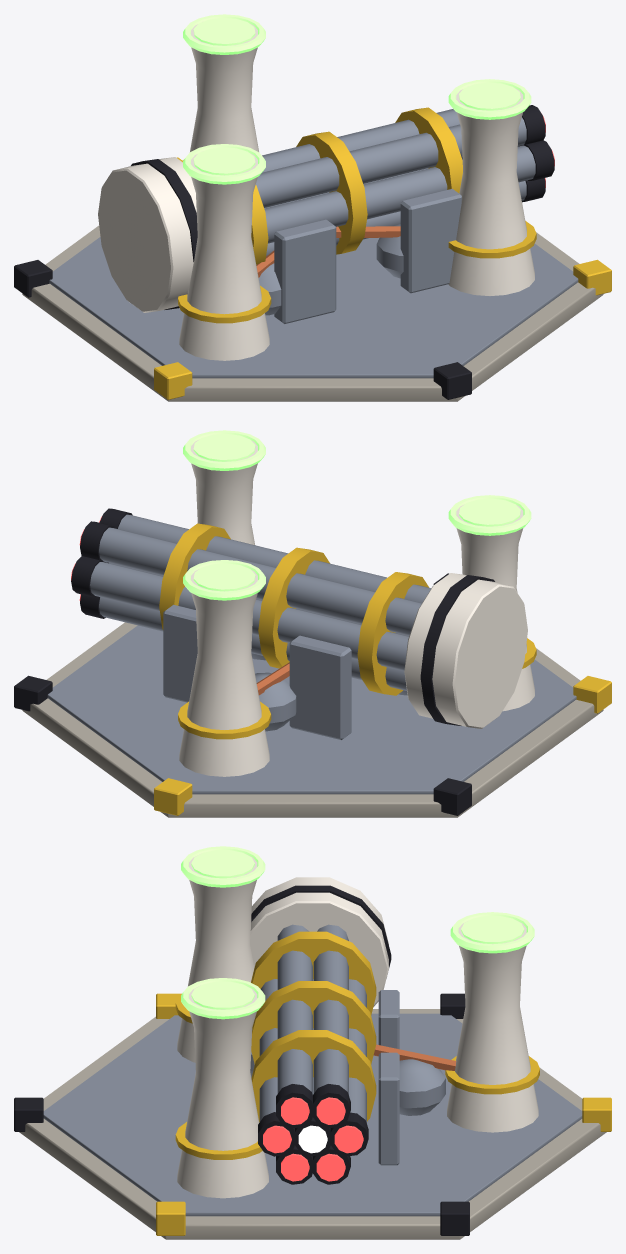
Rendered from cracker.glb.
3 views of the same model, one above another, from view 1: azimuth 30°, elevation 25°; view 2: azimuth 150°, elevation 25°; view 3: azimuth 270°, elevation 25° (orthographic).
Parts seen in each view (by area): view 1: cracker; view 2: cracker; view 3: cracker.
Part boxes in pixels (bbox=[...]): cracker: bbox=[14, 14, 611, 401]; cracker: bbox=[14, 430, 611, 817]; cracker: bbox=[14, 846, 611, 1239].
Bounding box in the file's own units: 247 × 106 × 283.
Materials: 1 (1 with a texture image).
